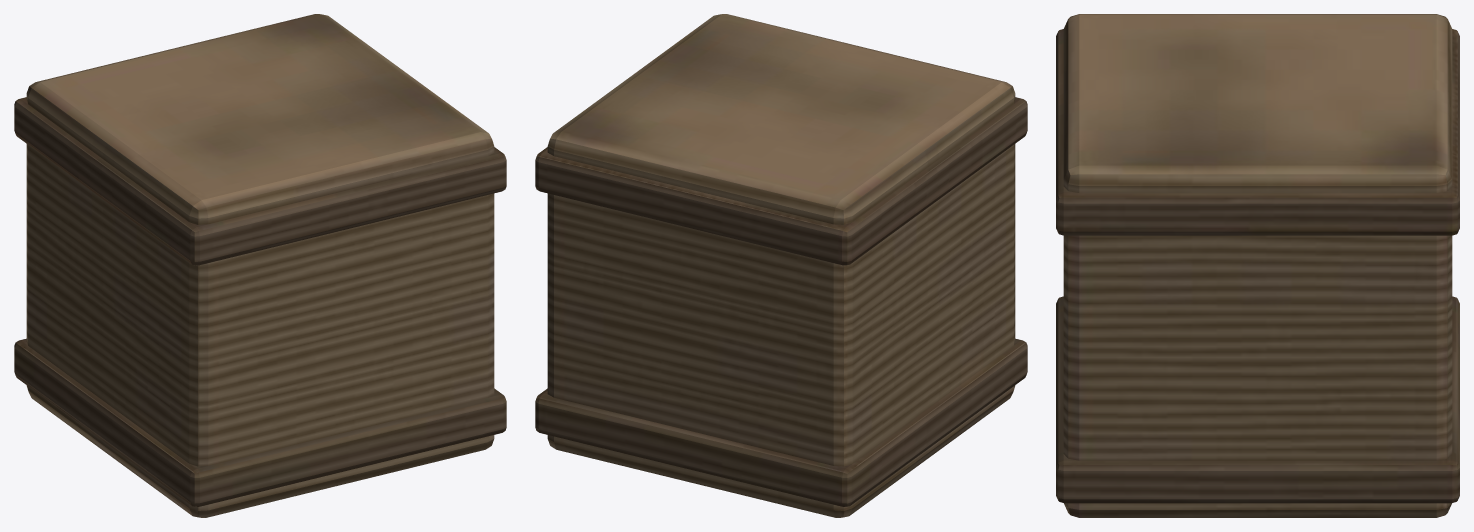
File: crate.glb
3 views of the same model, side by side, from view 1: azimuth 30°, elevation 25°; view 2: azimuth 150°, elevation 25°; view 3: azimuth 270°, elevation 25° (orthographic). The views are drawn at different scales.
Parts seen in each view (by area): view 1: crate; view 2: crate; view 3: crate.
Boxes of the visible parts, x1,y1,x2,y2 form: crate: (14,14,506,517); crate: (535,14,1027,517); crate: (1056,14,1459,517).
Size of the model in its own units: 0.52 by 0.5 by 0.52.
1 material, 1 textured.
